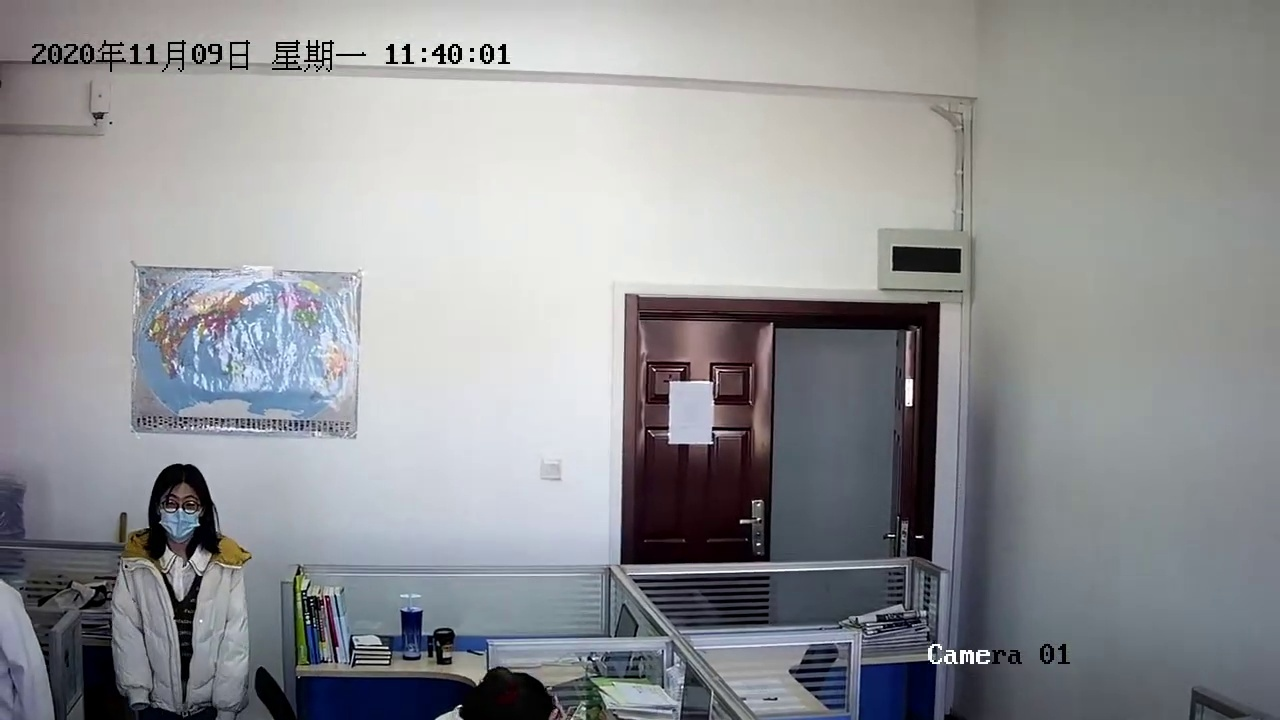mask: (152, 469, 210, 541)
